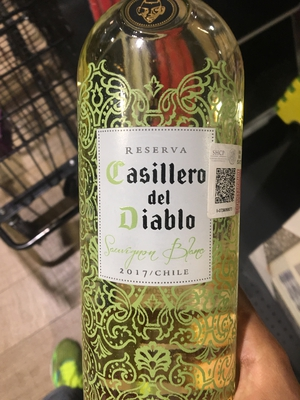casillero del diablo sauvignon blanc: (73, 2, 254, 397)
